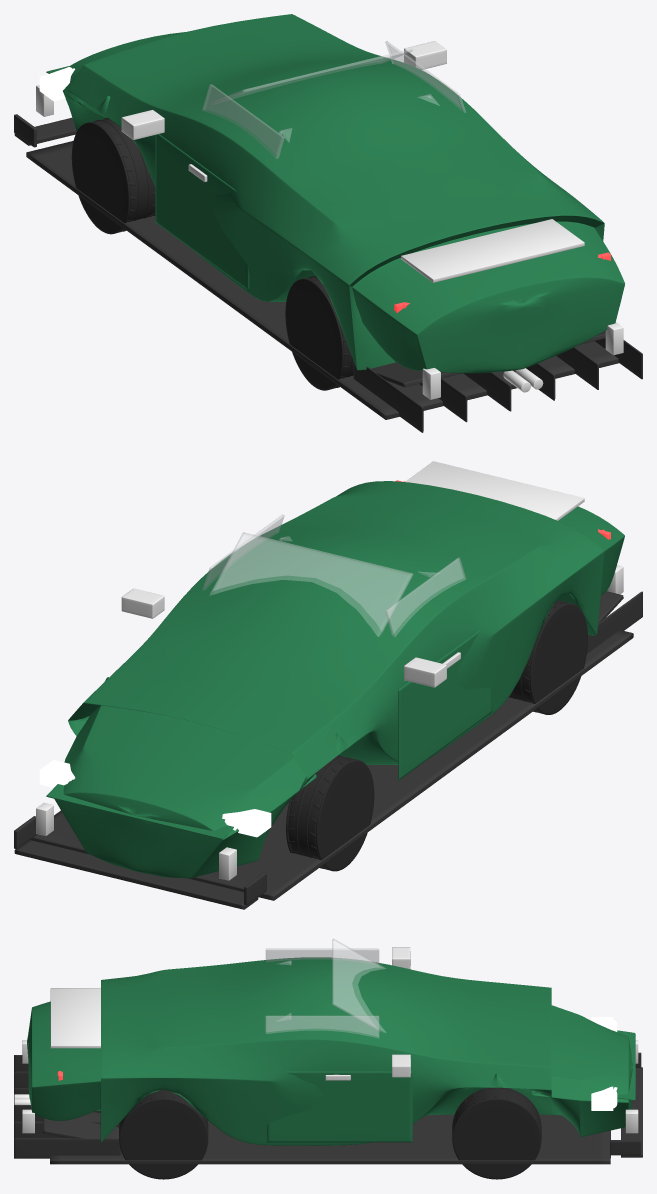
File: vehicle.opt.glb
3 views of the same model, one above another, from view 1: azimuth 30°, elevation 25°; view 2: azimuth 150°, elevation 25°; view 3: azimuth 270°, elevation 25° (orthographic). The views are drawn at different scales.
Visible parts, largest first — view 1: BODY_MainShell, UNDERBODY_FlatFloor, WHEEL_FL_Tire, BODY_Door_FL, JEWELRY_Spitfire_LuggageRack, WHEEL_RL_Tire, GLASS_Greenhouse, JEWELRY_Hardware, JEWELRY_Spitfire_Bumperettes, AERO_FrontSplitter, LIGHTING_Headlamps, JEWELRY_Spitfire_DualExhaust; view 2: BODY_MainShell, UNDERBODY_FlatFloor, GLASS_Greenhouse, WHEEL_FL_Tire, BODY_Door_FL, WHEEL_RL_Tire, AERO_FrontSplitter, JEWELRY_Spitfire_LuggageRack, JEWELRY_Hardware, LIGHTING_Headlamps, JEWELRY_Spitfire_Bumperettes, BODY_Hood; view 3: BODY_MainShell, UNDERBODY_FlatFloor, BODY_Door_FR, WHEEL_FR_Tire, WHEEL_RR_Tire, GLASS_Greenhouse, JEWELRY_Spitfire_LuggageRack, AERO_FrontSplitter, JEWELRY_Hardware, JEWELRY_Spitfire_Bumperettes, LIGHTING_Headlamps, BODY_Hood.
Boxes of the visible parts, bbox=[...] form: BODY_MainShell: bbox=[63, 14, 624, 373]; UNDERBODY_FlatFloor: bbox=[26, 141, 642, 432]; WHEEL_FL_Tire: bbox=[71, 118, 155, 234]; BODY_Door_FL: bbox=[155, 134, 249, 290]; JEWELRY_Spitfire_LuggageRack: bbox=[401, 219, 584, 282]; WHEEL_RL_Tire: bbox=[285, 276, 353, 390]; GLASS_Greenhouse: bbox=[202, 41, 465, 158]; JEWELRY_Hardware: bbox=[121, 41, 446, 181]; JEWELRY_Spitfire_Bumperettes: bbox=[36, 85, 623, 399]; AERO_FrontSplitter: bbox=[14, 114, 76, 147]; LIGHTING_Headlamps: bbox=[39, 67, 74, 101]; JEWELRY_Spitfire_DualExhaust: bbox=[503, 368, 543, 392]; BODY_MainShell: bbox=[54, 481, 624, 878]; UNDERBODY_FlatFloor: bbox=[30, 591, 642, 900]; GLASS_Greenhouse: bbox=[202, 514, 465, 636]; WHEEL_FL_Tire: bbox=[286, 755, 374, 871]; BODY_Door_FL: bbox=[398, 630, 492, 779]; WHEEL_RL_Tire: bbox=[509, 600, 587, 714]; AERO_FrontSplitter: bbox=[14, 816, 266, 909]; JEWELRY_Spitfire_LuggageRack: bbox=[405, 461, 584, 520]; JEWELRY_Hardware: bbox=[121, 588, 460, 687]; LIGHTING_Headlamps: bbox=[39, 760, 271, 837]; JEWELRY_Spitfire_Bumperettes: bbox=[36, 565, 623, 880]; BODY_Hood: bbox=[46, 784, 233, 839]; BODY_MainShell: bbox=[27, 957, 633, 1145]; UNDERBODY_FlatFloor: bbox=[14, 1055, 610, 1164]; BODY_Door_FR: bbox=[267, 1071, 412, 1142]; WHEEL_FR_Tire: bbox=[452, 1087, 541, 1179]; WHEEL_RR_Tire: bbox=[119, 1089, 208, 1179]; GLASS_Greenhouse: bbox=[265, 938, 385, 1037]; JEWELRY_Spitfire_LuggageRack: bbox=[50, 988, 100, 1048]; AERO_FrontSplitter: bbox=[610, 1052, 642, 1157]; JEWELRY_Hardware: bbox=[325, 947, 410, 1080]; JEWELRY_Spitfire_Bumperettes: bbox=[22, 1040, 638, 1133]; LIGHTING_Headlamps: bbox=[591, 1017, 617, 1110]; BODY_Hood: bbox=[617, 1030, 635, 1100].
Size of what is drawn, in the model's own units: 1.79 by 1.13 by 3.98.
